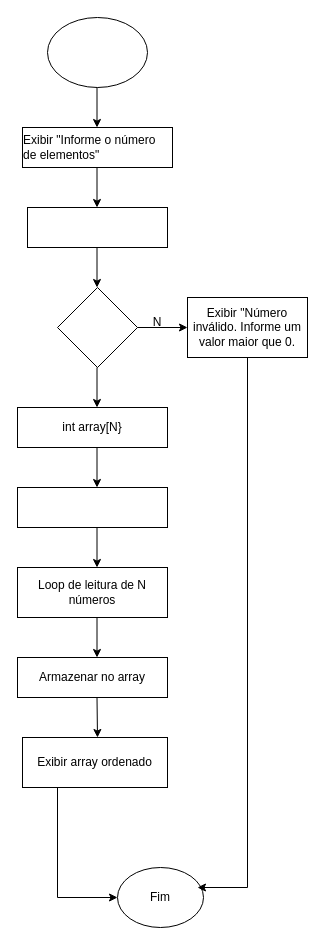
Some shapes in this 325 by 945 pixel diagram are drawn without their labels. The centre of each missing label's shape, as x and y in pixels:
Exibir "Informe os numeros inteiros:": (92,507)
Início: (97,52)
Ler N: (97,227)
N <= 0: (97,327)
